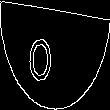O_N: (42, 27, 68, 83)
